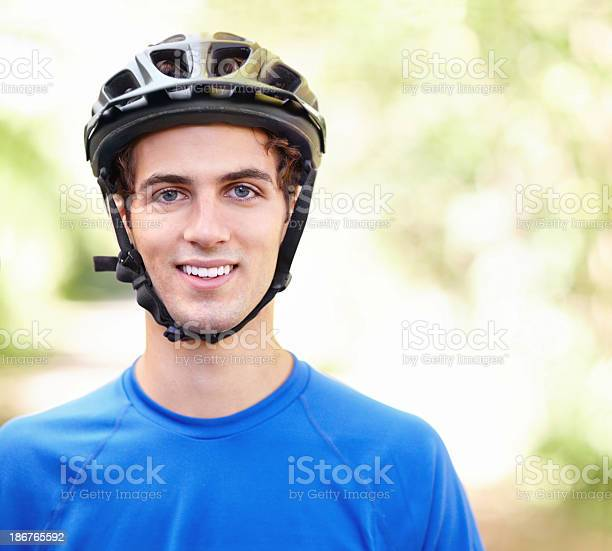helmet: (83, 31, 325, 343)
